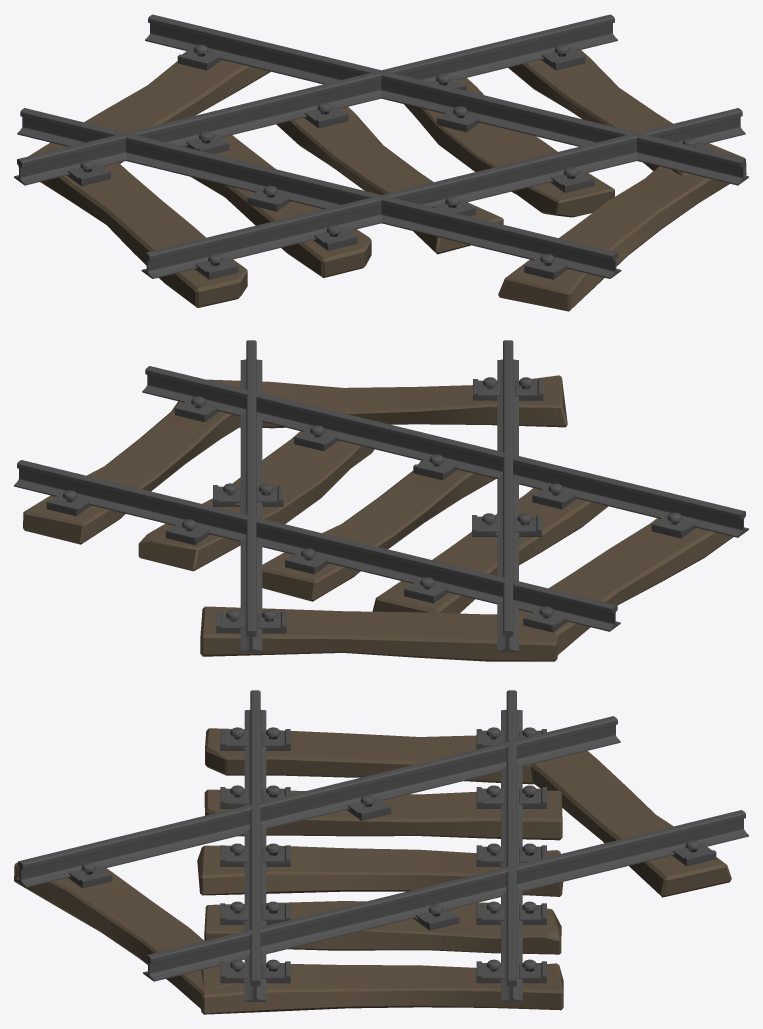
File: SM_railD_v1.fbx
3 views of the same model, one above another, from view 1: azimuth 30°, elevation 25°; view 2: azimuth 150°, elevation 25°; view 3: azimuth 270°, elevation 25° (orthographic).
Parts seen in each view (by area): view 1: SM_railD; view 2: SM_railD; view 3: SM_railD.
Part boxes in pixels (x1,y1,x2,y2): SM_railD: (14,14,748,311); SM_railD: (14,340,748,661); SM_railD: (14,690,748,1014).
Bounding box in the file's own units: 8.66 × 0.6459 × 9.27.
